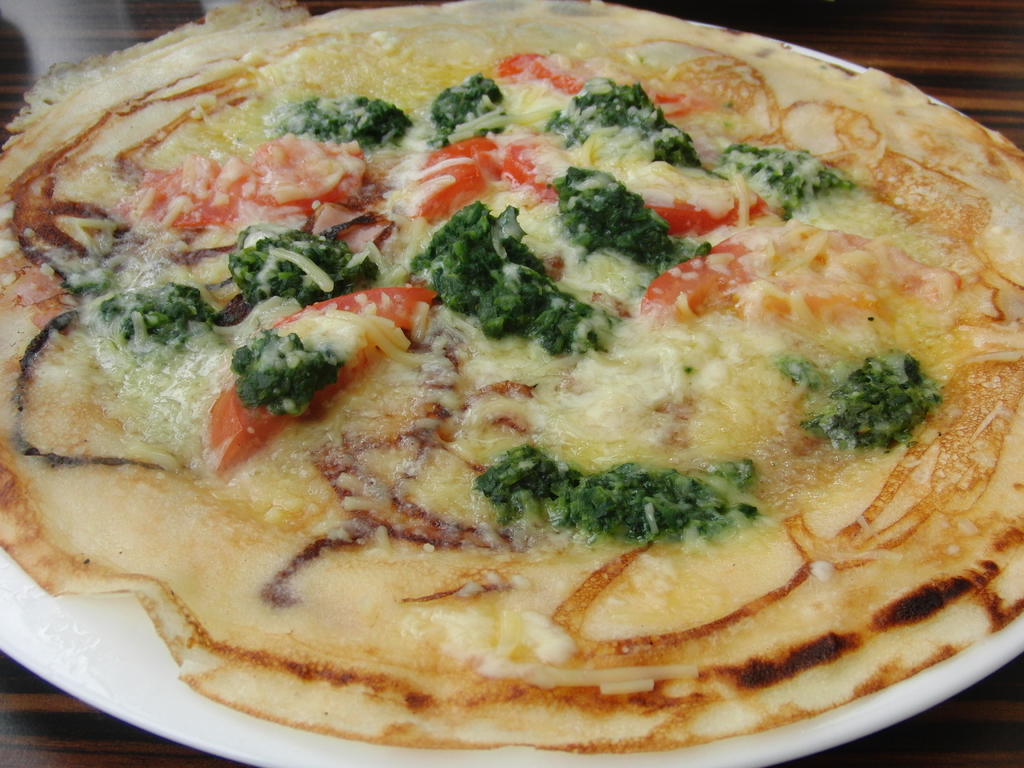pizza: (0, 0, 1023, 753)
